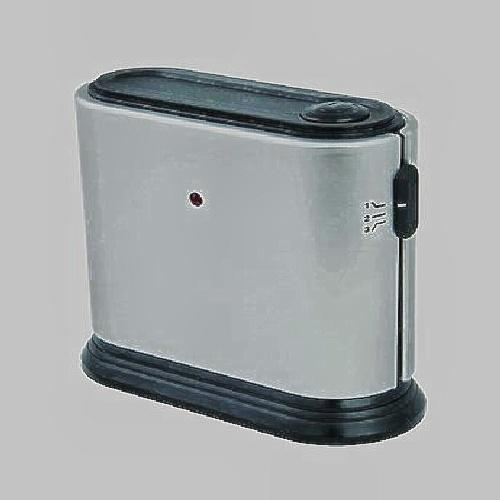chair: (78, 68, 435, 441)
